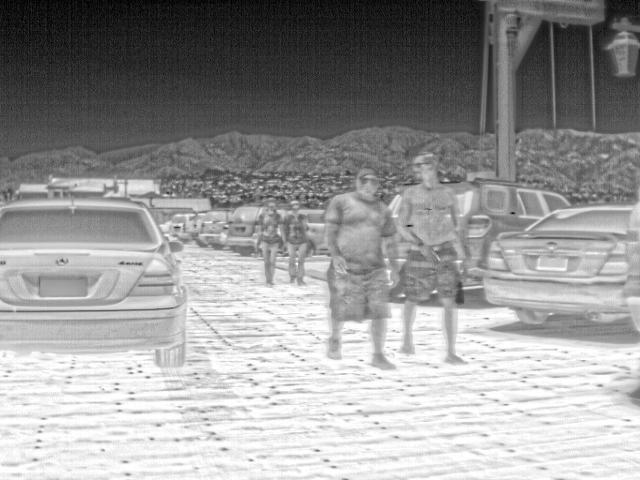car: (1, 198, 190, 366), (483, 203, 637, 329), (456, 186, 576, 288), (228, 204, 266, 256), (201, 206, 232, 248)
person: (386, 150, 470, 368), (321, 169, 397, 370), (280, 199, 309, 286), (255, 198, 284, 284)
